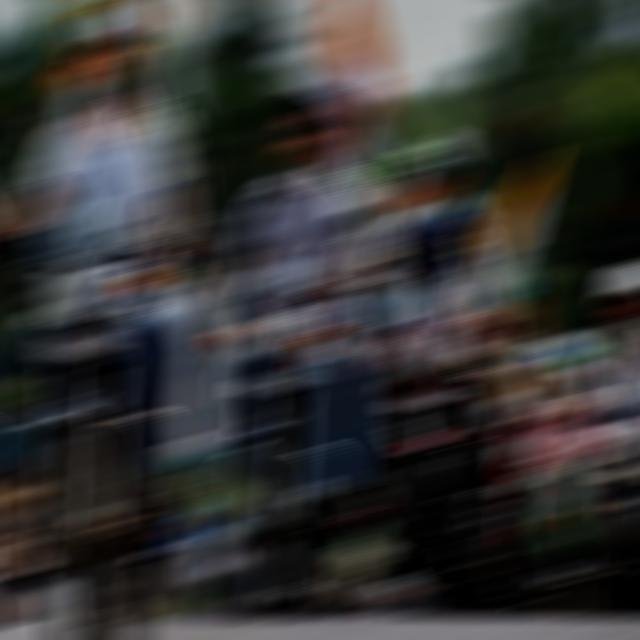With Helmet: (602, 260, 640, 332)
Without Helmet: (64, 2, 142, 107), (399, 140, 460, 224), (270, 84, 332, 166)
